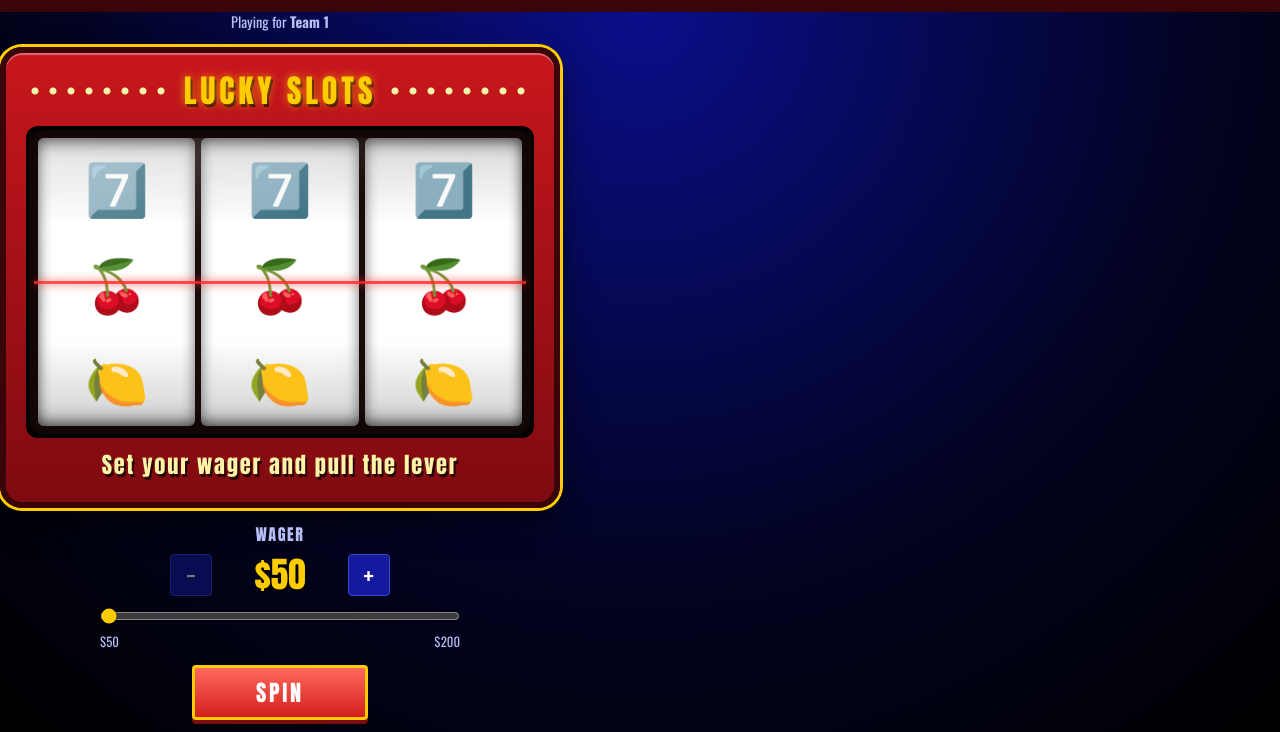
Test case: SlotsGame › locks the wager once the reels are spinning
Click the button "Spin".
click(280, 693)  # box [192, 665, 368, 720]
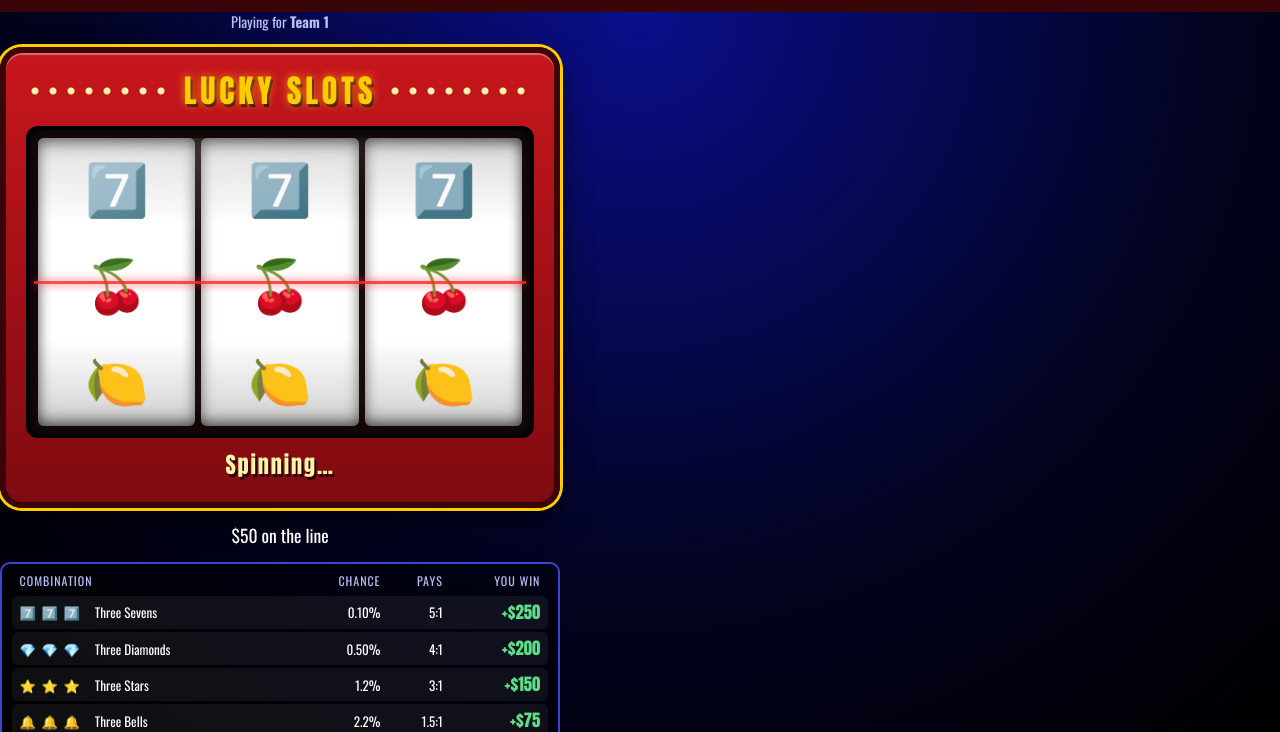
Expected: the button "Wager" is gone
